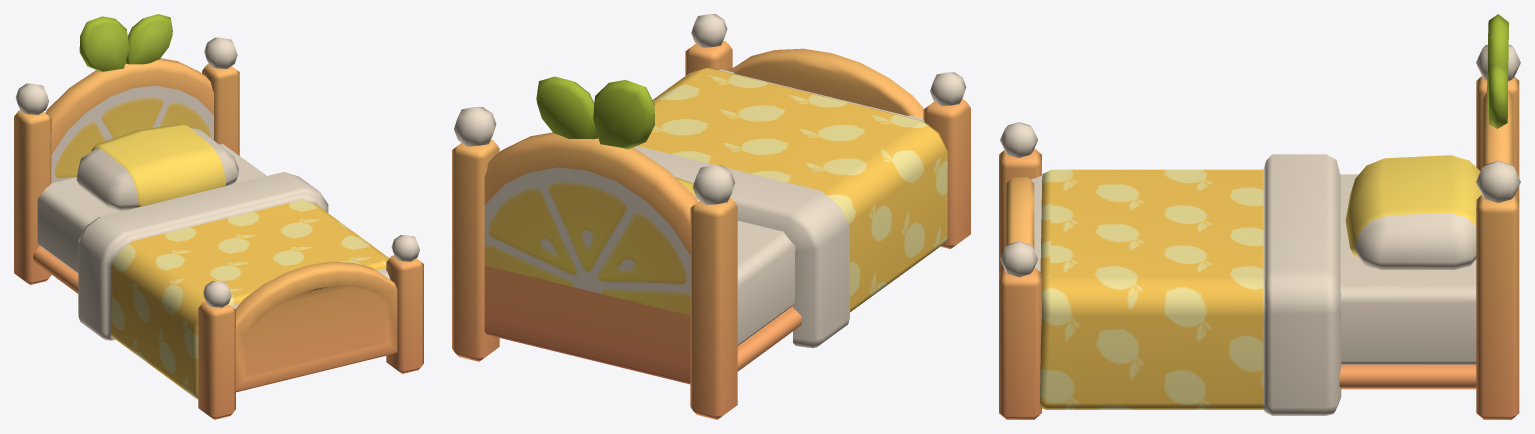
File: Homestead_nm_22.fbx
3 renders of one model, left to right at view 1: azimuth 30°, elevation 25°; view 2: azimuth 150°, elevation 25°; view 3: azimuth 270°, elevation 25°, orthographic. The views are drawn at different scales.
Parts seen in each view (by area): view 1: Homestead_nm_22; view 2: Homestead_nm_22; view 3: Homestead_nm_22.
Part boxes in pixels (x1,y1,x2,y2): Homestead_nm_22: (14,14,423,419); Homestead_nm_22: (452,14,970,419); Homestead_nm_22: (999,14,1520,419).
Bounding box in the file's own units: 212 × 218 × 323.
